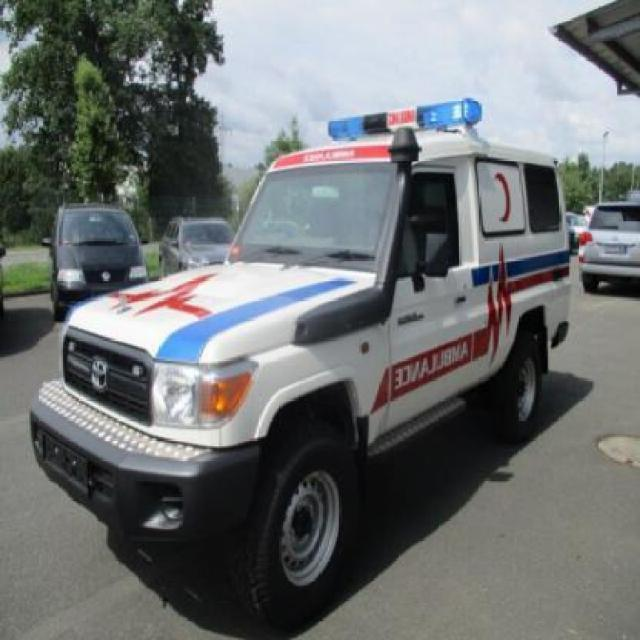emergency: (27, 95, 573, 630)
